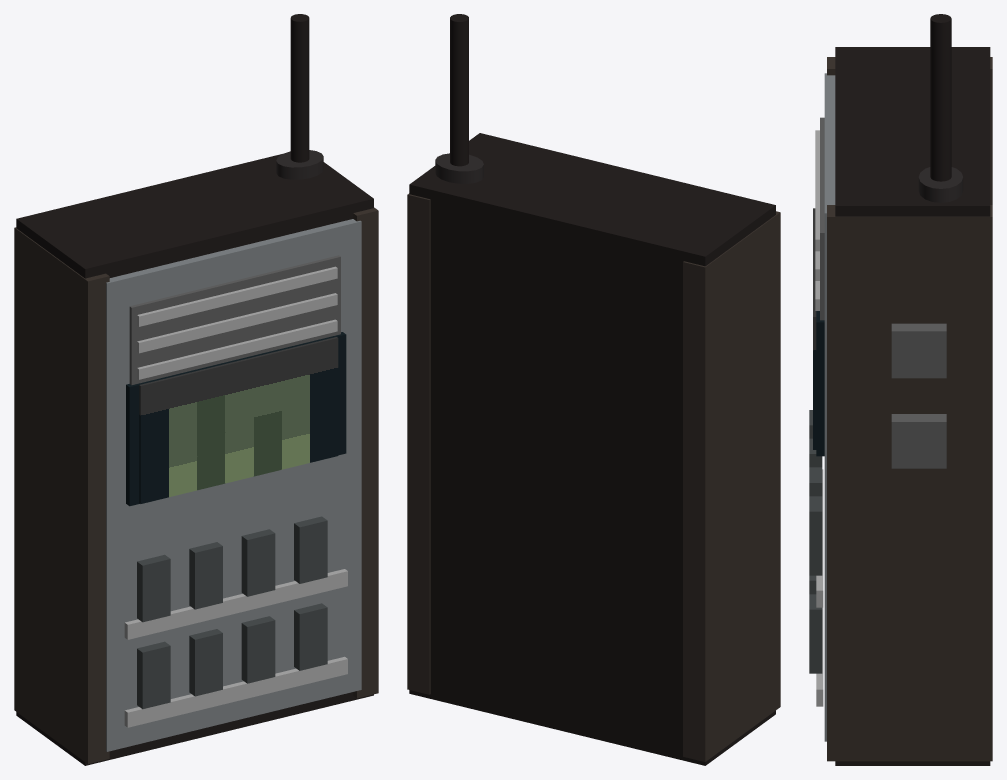
File: CMU3DHandRMCRadioHandheldColonyOffCloud.glb
The picture shows the model from 3 angles, left to right: view 1: azimuth 30°, elevation 25°; view 2: azimuth 150°, elevation 25°; view 3: azimuth 270°, elevation 25°; orthographic projection. The views are drawn at different scales.
Parts seen in each view (by area): view 1: radio silver face, radio side bumper -1, radio dark housing, source LCD frame 0, speaker inset, radio side bumper 1, key row separator 0, key row separator 1, LCD bezel, whip antenna, speaker grille rail 1, speaker grille rail 2 (+10 smaller); view 2: radio dark housing, radio side bumper -1, radio side bumper 1, whip antenna, antenna base socket; view 3: radio side bumper 1, radio dark housing, whip antenna, radio silver face, side control 1, side control 0, LCD bezel, antenna base socket, keypad key 3-1, keypad key 3-0, speaker inset, source LCD frame 0 (+5 smaller).
Part boxes in pixels (<box>): radio silver face: <box>106,219,361,751</box>; radio side bumper -1: <box>14,227,109,763</box>; radio dark housing: <box>16,154,373,765</box>; source LCD frame 0: <box>139,337,338,503</box>; speaker inset: <box>129,255,340,385</box>; radio side bumper 1: <box>353,207,378,698</box>; key row separator 0: <box>124,656,347,727</box>; key row separator 1: <box>124,569,347,639</box>; LCD bezel: <box>126,332,346,506</box>; whip antenna: <box>290,14,309,162</box>; speaker grille rail 1: <box>137,293,337,353</box>; speaker grille rail 2: <box>137,266,337,326</box>; radio dark housing: <box>409,133,775,765</box>; radio side bumper -1: <box>683,211,780,761</box>; radio side bumper 1: <box>407,193,430,694</box>; whip antenna: <box>450,14,468,166</box>; antenna base socket: <box>435,153,483,183</box>; radio side bumper 1: <box>827,205,992,761</box>; radio dark housing: <box>835,47,990,765</box>; whip antenna: <box>930,14,951,181</box>; radio silver face: <box>824,73,835,741</box>; side control 1: <box>891,323,946,378</box>; side control 0: <box>891,414,946,468</box>; LCD bezel: <box>816,311,824,456</box>; antenna base socket: <box>918,167,963,202</box>; keypad key 3-1: <box>809,496,822,575</box>; keypad key 3-0: <box>809,594,822,673</box>; speaker inset: <box>820,117,824,320</box>; source LCD frame 0: <box>813,208,816,449</box>.
Size of what is drawn, in the model's own units: 0.338 by 0.688 by 0.156.
Materials: 9 (1 with a texture image).
